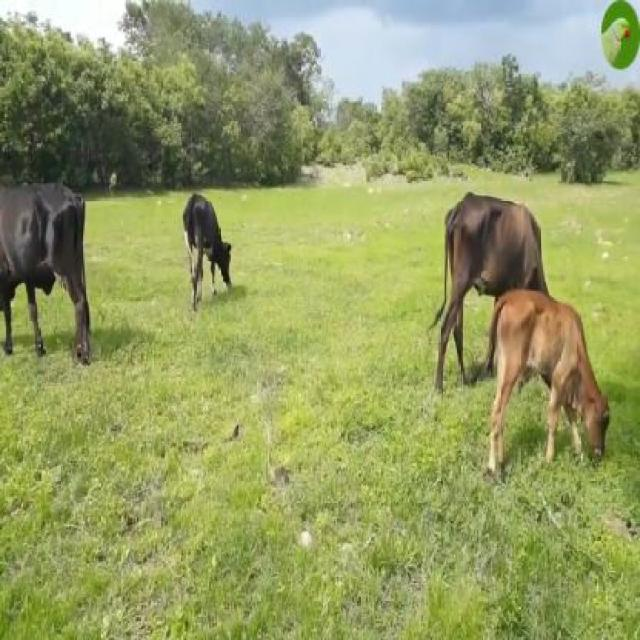Cow: (488, 289, 609, 477), (182, 188, 232, 314)
